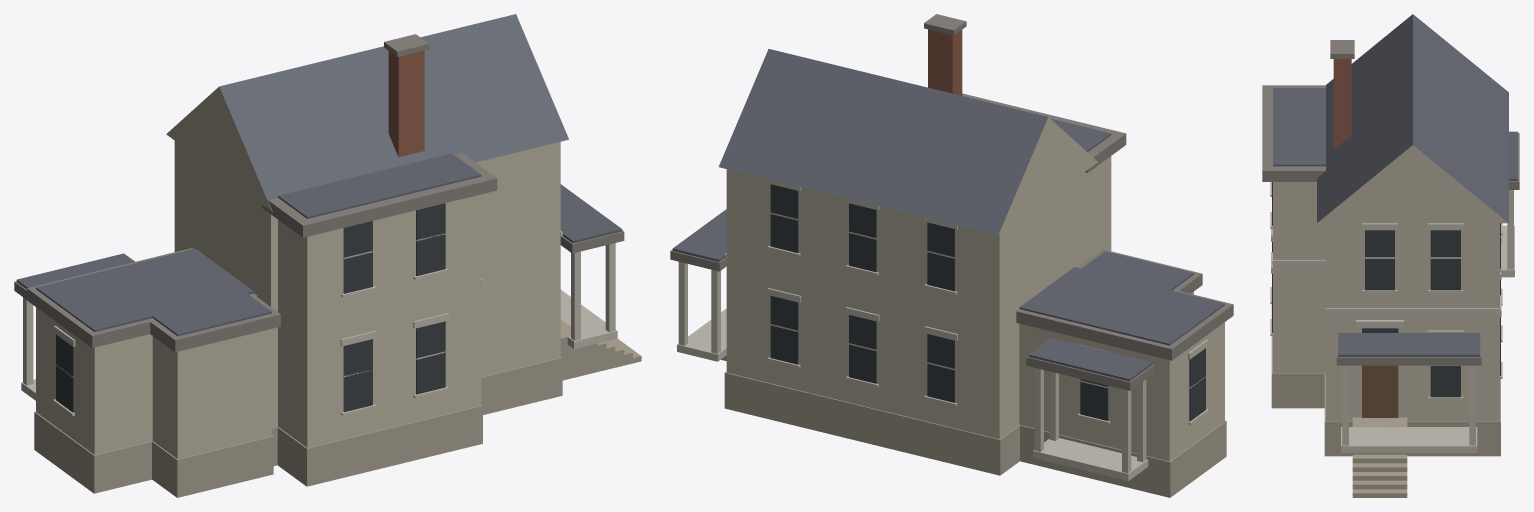
Rendered from house_2125_prairie__draft_1904.glb.
3 renders of one model, left to right at view 1: azimuth 30°, elevation 25°; view 2: azimuth 150°, elevation 25°; view 3: azimuth 270°, elevation 25°, orthographic. The views are drawn at different scales.
Parts seen in each view (by area): view 1: house_2125_prairie__draft_1904; view 2: house_2125_prairie__draft_1904; view 3: house_2125_prairie__draft_1904.
Boxes of the visible parts, box(x1,y1,x2,y2) form: house_2125_prairie__draft_1904: box(14, 14, 641, 497); house_2125_prairie__draft_1904: box(670, 14, 1233, 497); house_2125_prairie__draft_1904: box(1262, 14, 1519, 497).
Bounding box in the file's own units: 19 × 12.57 × 8.5.
